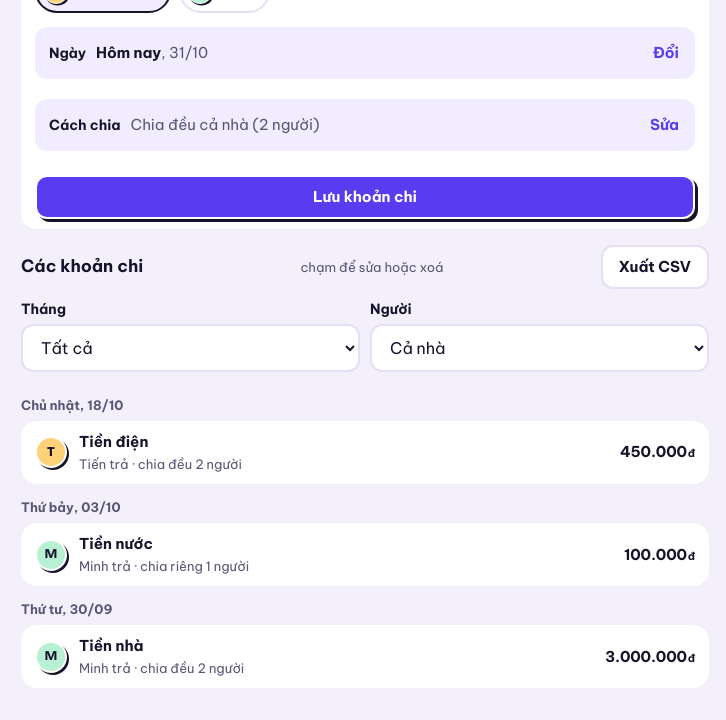
Test case: filters and month totals (PROJECT_SPEC §3.4) › a month narrows the list and shows what each member paid and owes
(page scrolled)
Expected: the text "Tiền nhà" is shown, [79,636,143,655]
Select "10/2026" in the dropdown labelled "Tháng" at (190, 348), box [21,324,360,372]
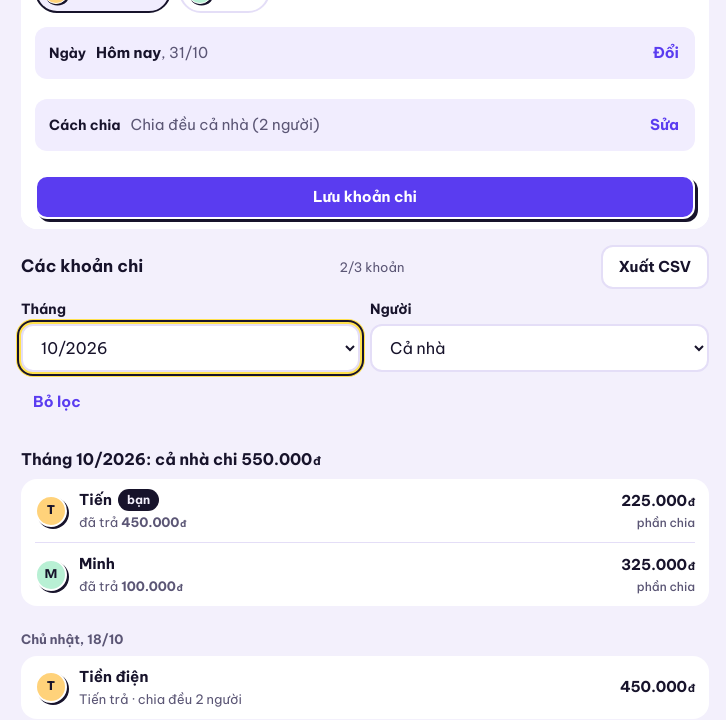
Expected: the heading "Tiền nhà" is gone
Expected: the text "2/3 khoản" is shown, [339,258,404,277]
Expected: the heading "Tháng 10/2026: cả nhà chi 550.000đ" is shown, [21,449,321,469]
